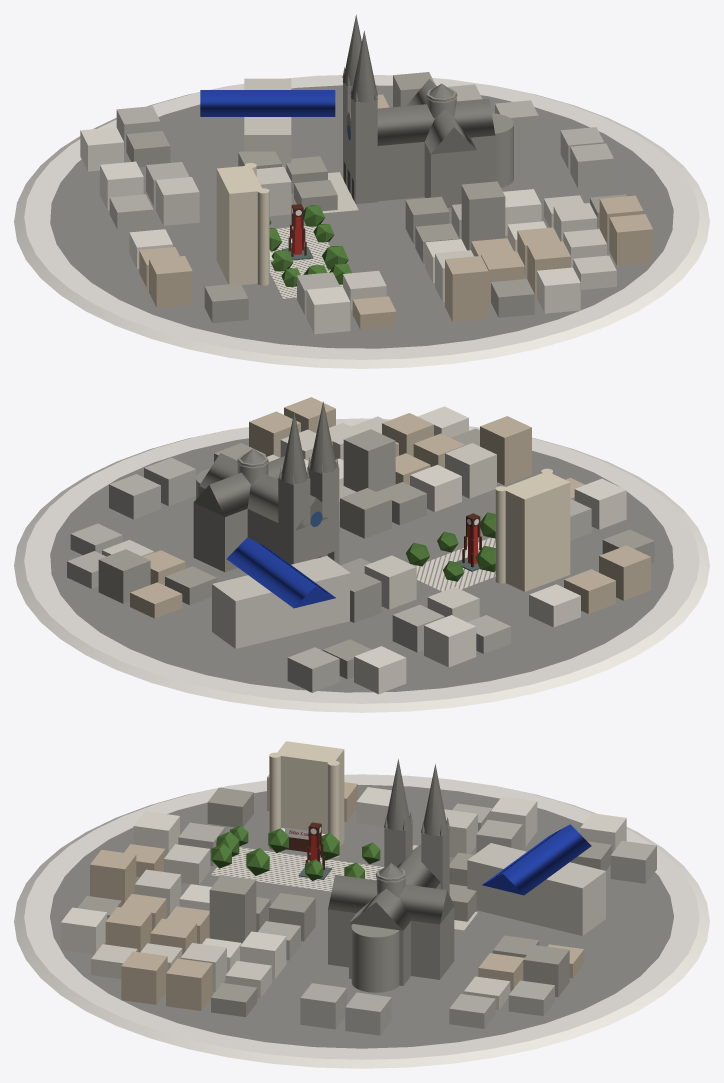
File: centro-catedral-praca-do-ferreira-mercado.glb
3 views of the same model, one above another, from view 1: azimuth 30°, elevation 25°; view 2: azimuth 150°, elevation 25°; view 3: azimuth 270°, elevation 25° (orthographic).
Visible parts, largest first — view 1: centro; view 2: centro; view 3: centro.
Part boxes in pixels (x1,y1,x2,y2): centro: (14,14,709,368); centro: (14,397,709,712); centro: (14,741,709,1068).
Size of the model in its own units: 68 by 18.7 by 68.
Materials: 24 (2 with a texture image).
